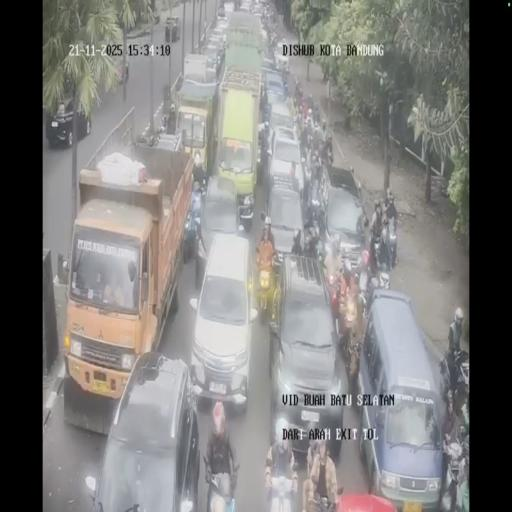car: (357, 292, 444, 506), (89, 350, 200, 508), (268, 258, 346, 456), (194, 173, 244, 286), (320, 166, 368, 273), (263, 181, 306, 271), (46, 92, 92, 147), (267, 102, 297, 146), (262, 68, 288, 108), (204, 31, 228, 74), (275, 40, 290, 70), (260, 26, 270, 63), (216, 3, 228, 20), (251, 0, 263, 16), (239, 0, 253, 13)
motorcycle: (204, 459, 238, 511), (266, 462, 298, 512), (304, 174, 326, 234), (325, 271, 343, 323), (386, 218, 398, 268), (259, 112, 271, 150), (378, 265, 390, 290)
truck: (173, 70, 219, 184), (222, 7, 264, 78), (92, 46, 126, 99)
